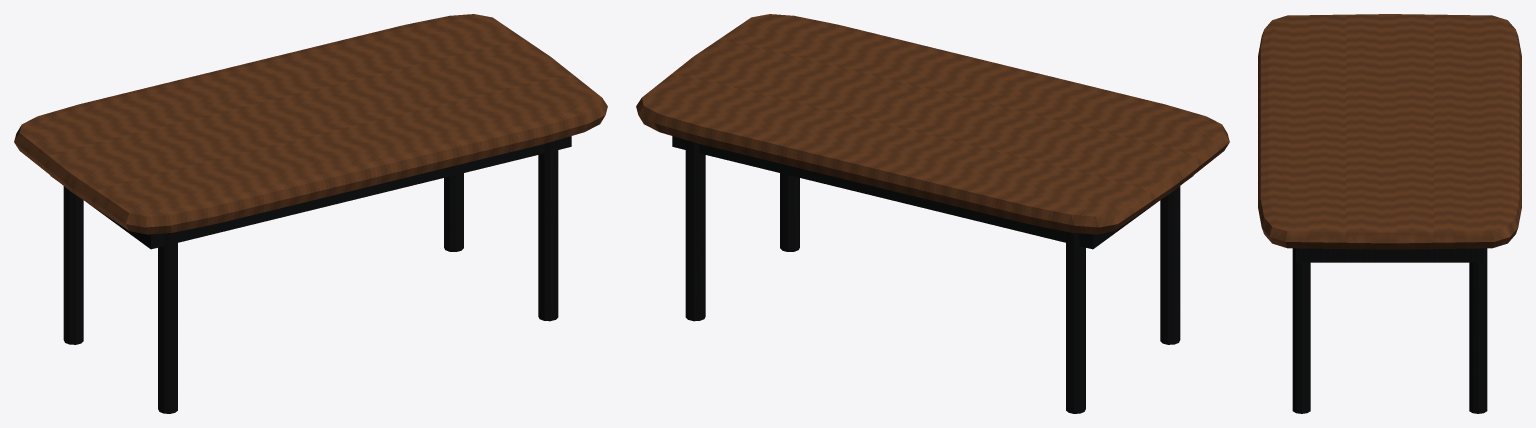
The model's file is dining-table-1800_lod2.glb.
3 views of the same model, side by side, from view 1: azimuth 30°, elevation 25°; view 2: azimuth 150°, elevation 25°; view 3: azimuth 270°, elevation 25° (orthographic). The views are drawn at different scales.
Parts seen in each view (by area): view 1: top, apron, leg_4, leg_3, leg_1, leg_2; view 2: top, apron, leg_2, leg_1, leg_3, leg_4; view 3: top, leg_4, leg_2, apron.
Part boxes in pixels (box(x1,y1,x2,y2)): top: box(14, 14, 607, 234); apron: box(50, 136, 571, 249); leg_4: box(538, 140, 558, 321); leg_3: box(158, 231, 177, 413); leg_1: box(63, 186, 83, 344); leg_2: box(444, 173, 463, 251); top: box(636, 14, 1229, 234); apron: box(672, 136, 1193, 249); leg_2: box(685, 140, 705, 321); leg_1: box(1066, 231, 1085, 413); leg_3: box(1160, 186, 1180, 344); leg_4: box(780, 173, 799, 251); top: box(1258, 14, 1521, 249); leg_4: box(1292, 248, 1310, 413); leg_2: box(1469, 248, 1487, 413); apron: box(1296, 248, 1483, 262).
Bounding box in the file's own units: 1.8 × 0.76 × 0.9.
2 materials, 2 textured.
